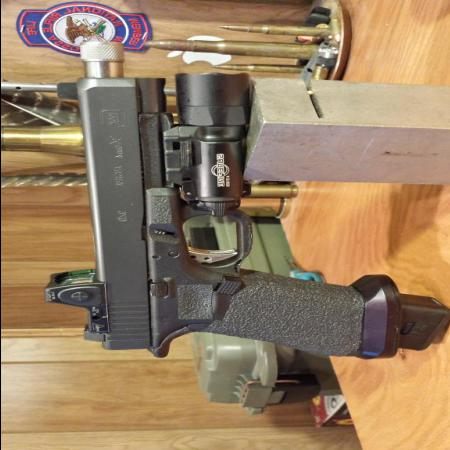Pistol: (34, 74, 440, 358)
